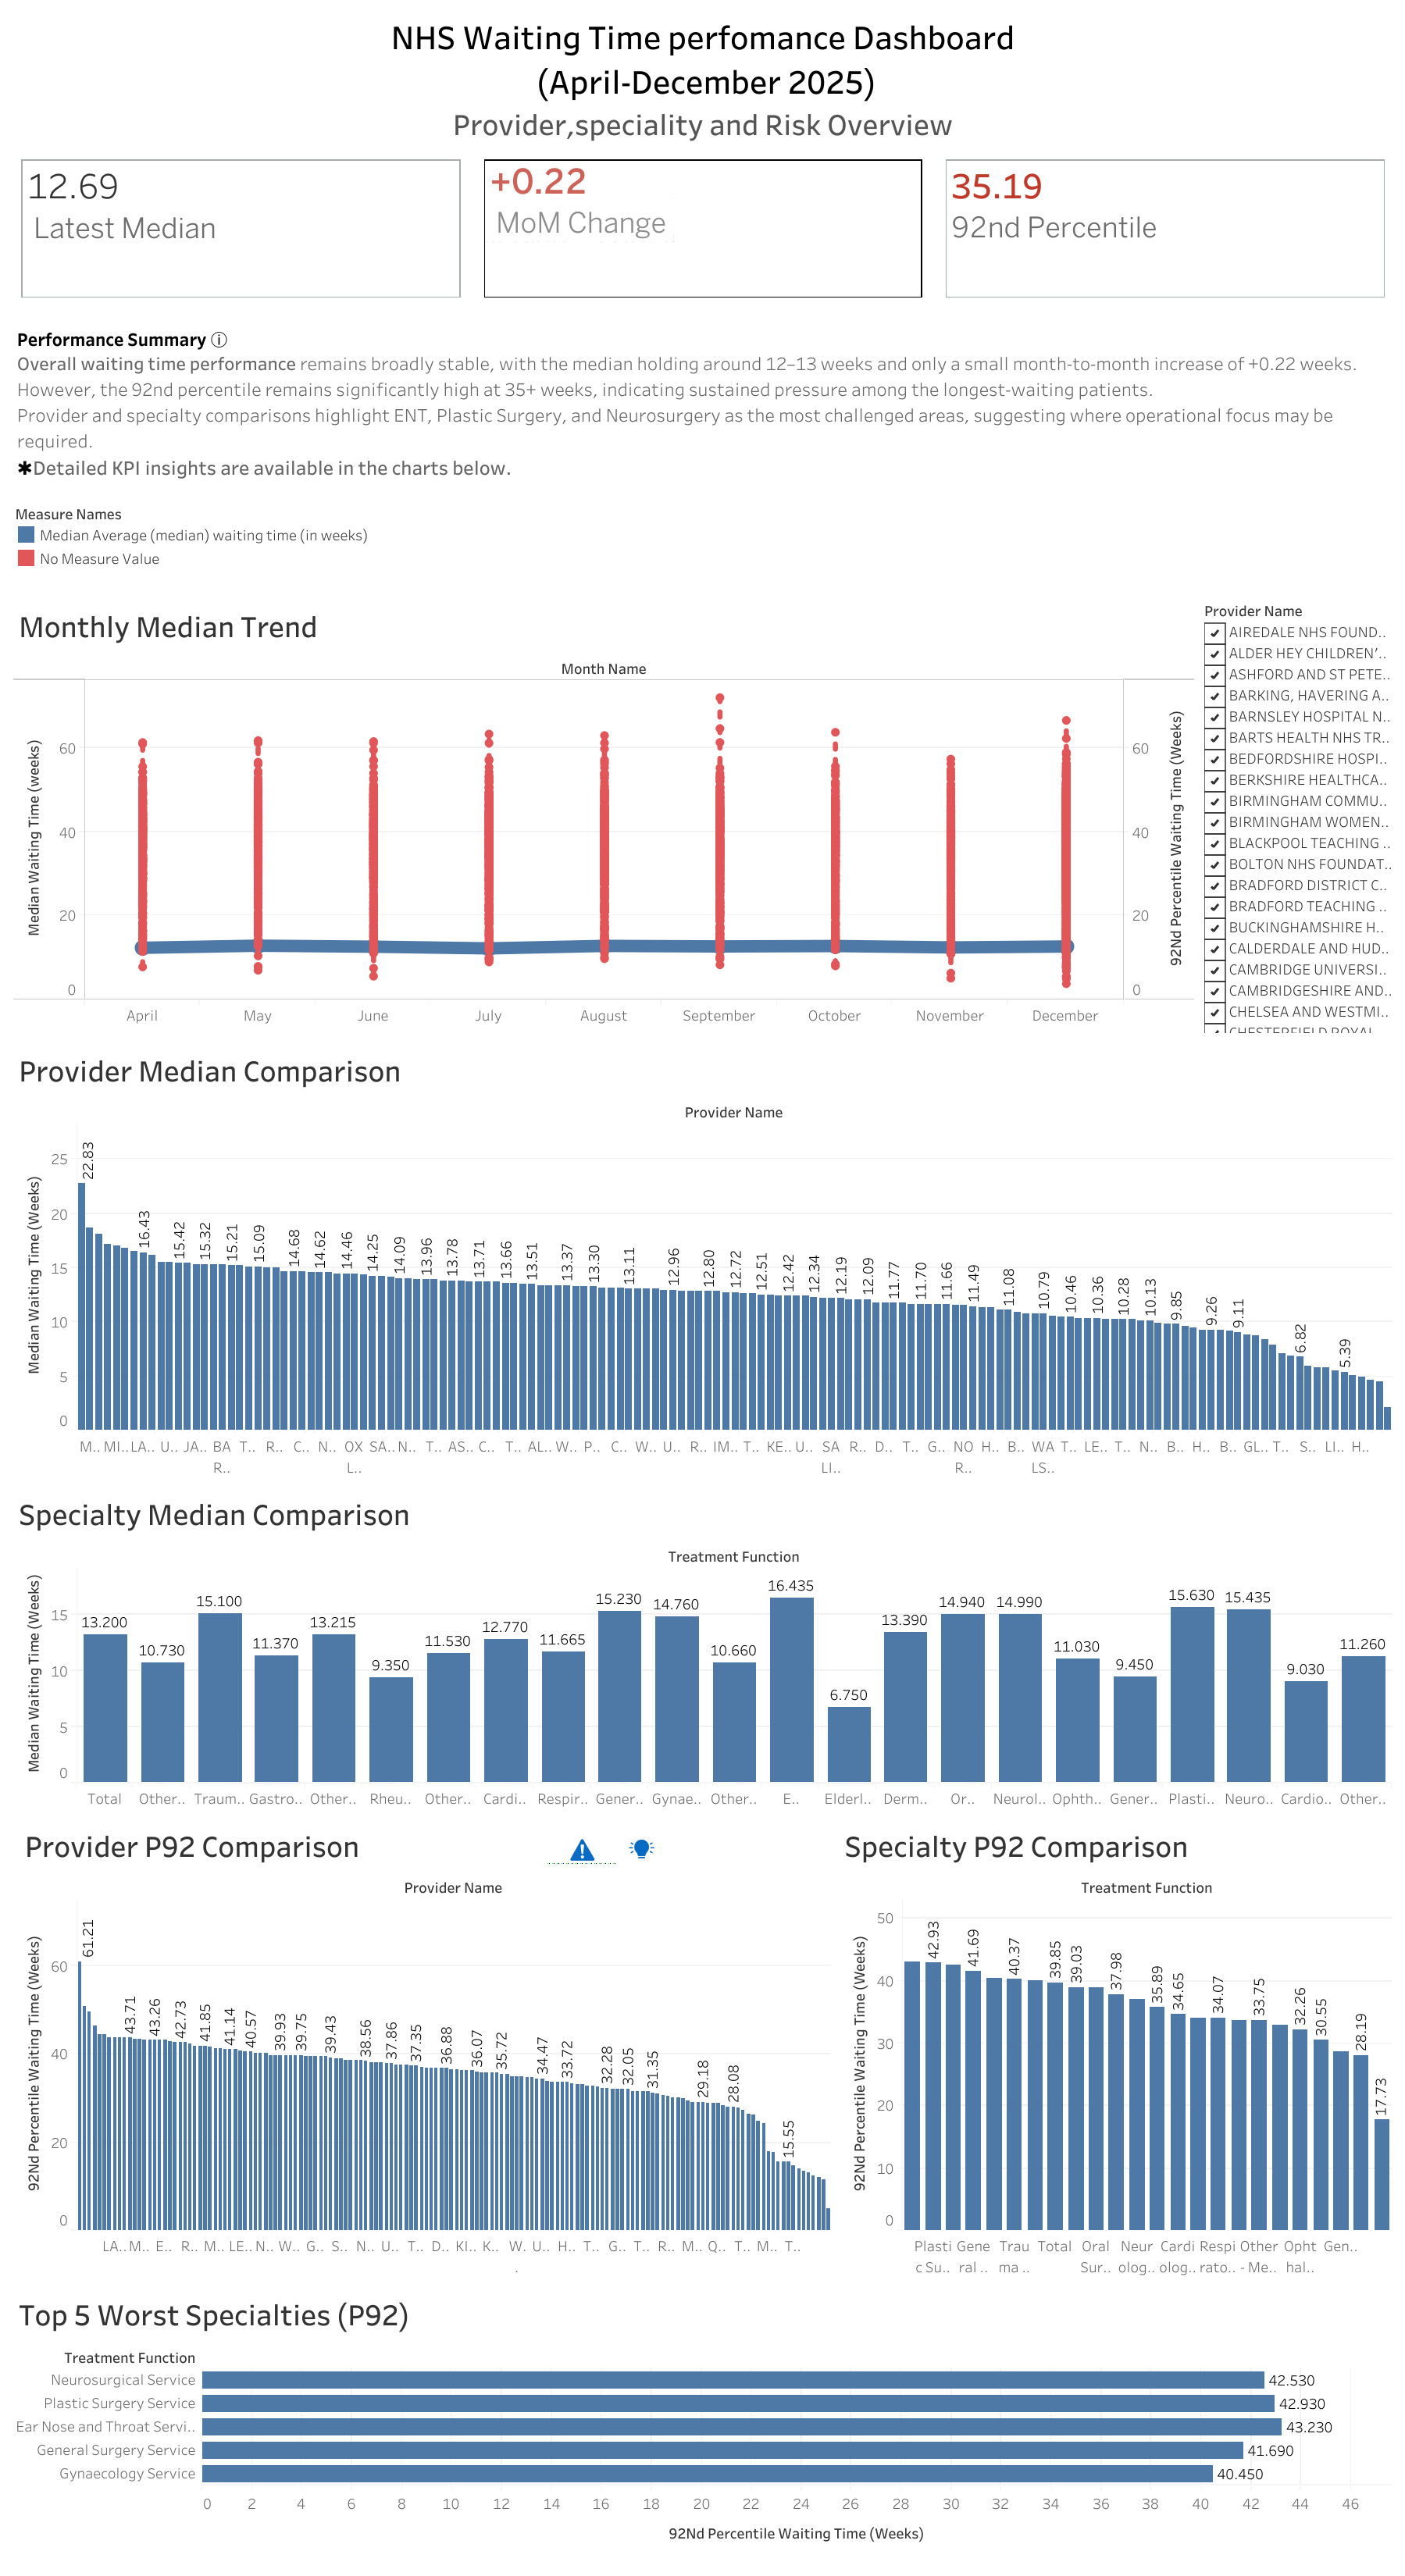

Layout of this report page (visuals, bound fields, positions):
{"tool":"tableau","page":{"name":"Dashboard 1","canvas":[1200,2200],"ordinal":0},"visuals":[{"type":"text","box":[8,8,1184,168]},{"type":"worksheet","title":"KPI- Latest Median","mark":"Automatic","box":[8,176,394.7,138]},{"type":"worksheet","title":"KPI-MoM Change","mark":"Text","box":[402.7,176,394.7,138]},{"type":"worksheet","title":"KPI – 92nd Percentile","mark":"Automatic","box":[797.3,176,394.7,138]},{"type":"text","box":[8,314,1184,159]},{"type":"legend","title":"Monthly Median Trend","param":"[federated.01nr69613za8q017olmdk1m1pyjp].[:Measure Names]","box":[8,473,1184,84]},{"type":"worksheet","title":"Monthly Median Trend","mark":"Line","rows":["Average (median) waiting time (in weeks)","92nd percentile waiting time (in weeks)"],"cols":["Month Name"],"box":[8,557.1,1015.9,328.9]},{"type":"filter","title":"Monthly Median Trend","param":"[federated.01nr69613za8q017olmdk1m1pyjp].[none:Provider Name:nk]","box":[1023.9,557.1,168,328.9]},{"type":"worksheet","title":"Provider Median Comparison","mark":"Bar","rows":["Average (median) waiting time (in weeks)"],"cols":["Provider Name"],"box":[8,886,1184,379]},{"type":"worksheet","title":"Specialty Median Comparison","mark":"Bar","rows":["Average (median) waiting time (in weeks)"],"cols":["Treatment Function"],"box":[8,1265,1184,283]},{"type":"worksheet","title":" Provider P92 Comparison","mark":"Bar","rows":["92nd percentile waiting time (in weeks)"],"cols":["Provider Name"],"box":[8,1548,705,400]},{"type":"worksheet","title":"Specialty P92 Comparison","mark":"Bar","rows":["92nd percentile waiting time (in weeks)"],"cols":["Treatment Function"],"box":[713,1548,478.8,400]},{"type":"worksheet","title":"P92 Key Insights","mark":"Shape","cols":["Calculation_2449208419553309"],"box":[515,1567,65,31]},{"type":"worksheet","title":"P92 Key RIsk","mark":"Shape","cols":["Calculation_2449208419553309"],"box":[465,1570,86,40]},{"type":"worksheet","title":"Top 5 Worst Specialties (P92)","mark":"Bar","rows":["Treatment Function"],"cols":["92nd percentile waiting time (in weeks)"],"box":[8,1948,1184,244]}]}

Visuals, with their boxes in screenshot pixels (x1, y1, x2, y2), scaled from the page's 1200x2200 canvas onto the 1405x2576 screenshot:
text: bbox(9, 9, 1396, 206)
"KPI- Latest Median" worksheet: bbox(9, 206, 472, 368)
"KPI-MoM Change" worksheet (Text marks): bbox(472, 206, 933, 368)
"KPI – 92nd Percentile" worksheet: bbox(933, 206, 1396, 368)
text: bbox(9, 368, 1396, 554)
"Monthly Median Trend" legend: bbox(9, 554, 1396, 652)
"Monthly Median Trend" worksheet (Line marks): bbox(9, 652, 1199, 1038)
"Monthly Median Trend" filter: bbox(1199, 652, 1396, 1038)
"Provider Median Comparison" worksheet (Bar marks): bbox(9, 1038, 1396, 1481)
"Specialty Median Comparison" worksheet (Bar marks): bbox(9, 1481, 1396, 1812)
" Provider P92 Comparison" worksheet (Bar marks): bbox(9, 1812, 835, 2281)
"Specialty P92 Comparison" worksheet (Bar marks): bbox(835, 1812, 1396, 2281)
"P92 Key Insights" worksheet (Shape marks): bbox(603, 1835, 679, 1871)
"P92 Key RIsk" worksheet (Shape marks): bbox(544, 1838, 645, 1885)
"Top 5 Worst Specialties (P92)" worksheet (Bar marks): bbox(9, 2281, 1396, 2567)
